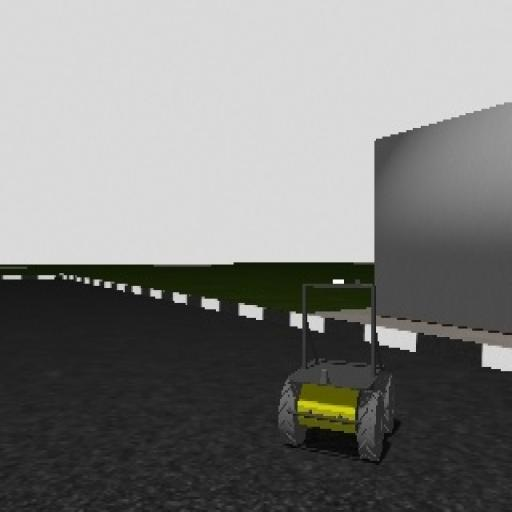huskya200: (276, 268, 402, 480)
